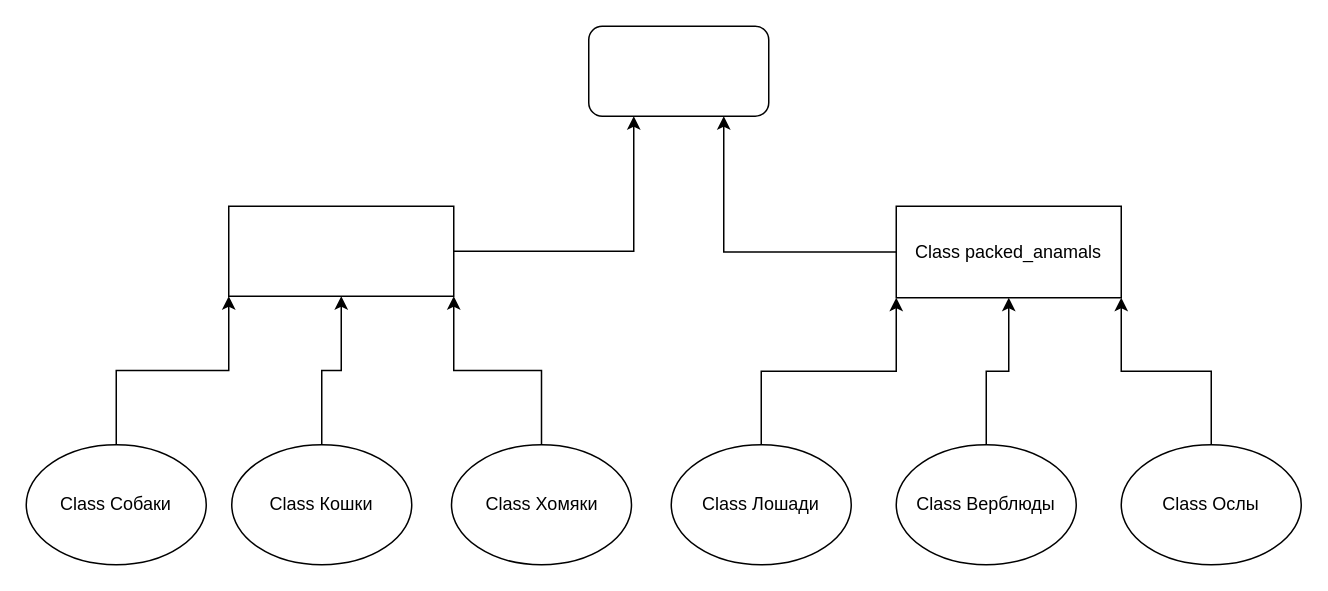
The diagram is 1328 pixels wide and 591 high, and some of its shapes have lost their labels. The centre of each missing label's shape, as x and y in pixels:
"Class Animals" belongs at point 678,70.
"Class Home_anamals" belongs at point 340,250.
